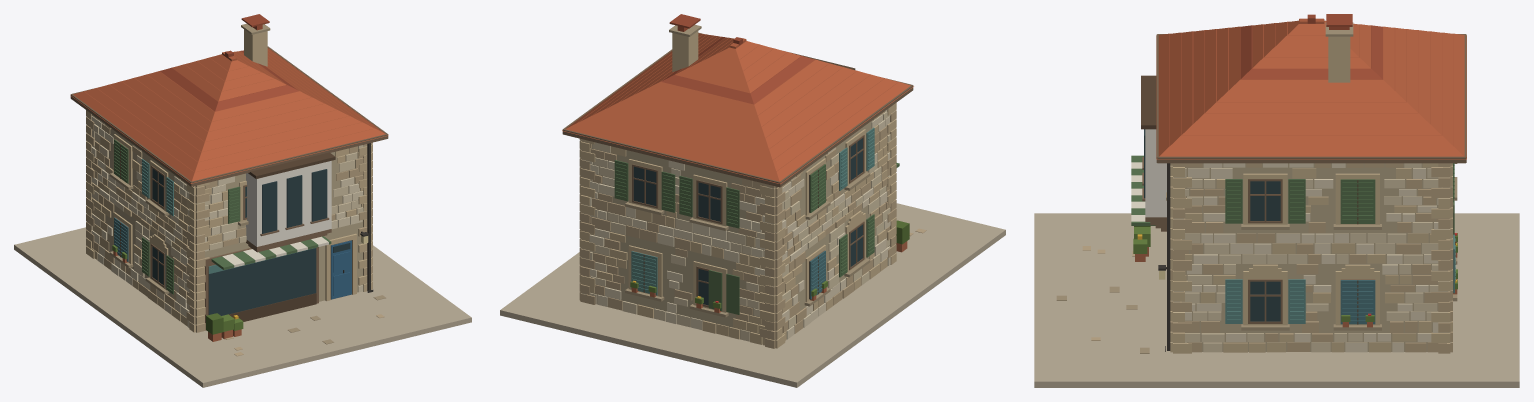
File: dukkanli-ev-tas.glb
3 renders of one model, left to right at view 1: azimuth 30°, elevation 25°; view 2: azimuth 150°, elevation 25°; view 3: azimuth 270°, elevation 25°, orthographic. The views are drawn at different scales.
Parts seen in each view (by area): view 1: zemin, kiremit1, tas2, cam, tas3, ahsap, tas4, harc, badana, tas1, yesil_kepenk, ahsap_koyu (+7 smaller); view 2: kiremit1, zemin, tas2, tas3, harc, tas4, tas1, yesil_kepenk, ahsap, cam, kiremit4, kepenk2 (+2 smaller); view 3: zemin, kiremit1, tas2, harc, tas3, tas4, tas1, ahsap, yesil_kepenk, kiremit4, cam, tas_koyu (+7 smaller).
Part boxes in pixels (x1,y1,x2,y2): zemin: [14, 227, 471, 387]; kiremit1: [70, 48, 388, 183]; tas2: [86, 29, 372, 332]; cam: [152, 168, 350, 315]; tas3: [86, 110, 384, 356]; ahsap: [70, 46, 388, 330]; tas4: [87, 116, 366, 327]; harc: [96, 129, 363, 324]; badana: [246, 161, 331, 246]; tas1: [87, 120, 366, 314]; yesil_kepenk: [114, 139, 331, 294]; ahsap_koyu: [120, 144, 352, 321]; kiremit1: [562, 33, 913, 184]; zemin: [500, 203, 1005, 387]; tas2: [579, 31, 896, 348]; tas3: [579, 110, 926, 348]; harc: [590, 112, 888, 344]; tas4: [581, 109, 895, 339]; tas1: [581, 111, 893, 341]; yesil_kepenk: [614, 160, 899, 314]; ahsap: [562, 32, 913, 310]; cam: [633, 138, 862, 305]; kiremit4: [661, 14, 814, 104]; kepenk2: [631, 127, 874, 295]; zemin: [1034, 213, 1519, 387]; kiremit1: [1156, 18, 1466, 159]; tas2: [1170, 36, 1452, 353]; harc: [1185, 163, 1438, 351]; tas3: [1082, 163, 1452, 353]; tas4: [1171, 163, 1452, 352]; tas1: [1171, 163, 1451, 352]; ahsap: [1142, 34, 1466, 323]; yesil_kepenk: [1131, 155, 1454, 234]; kiremit4: [1240, 14, 1382, 79]; cam: [1144, 129, 1280, 321]; tas_koyu: [1056, 22, 1457, 353].
Size of the model in its own units: 11.5 by 9.78 by 14.
